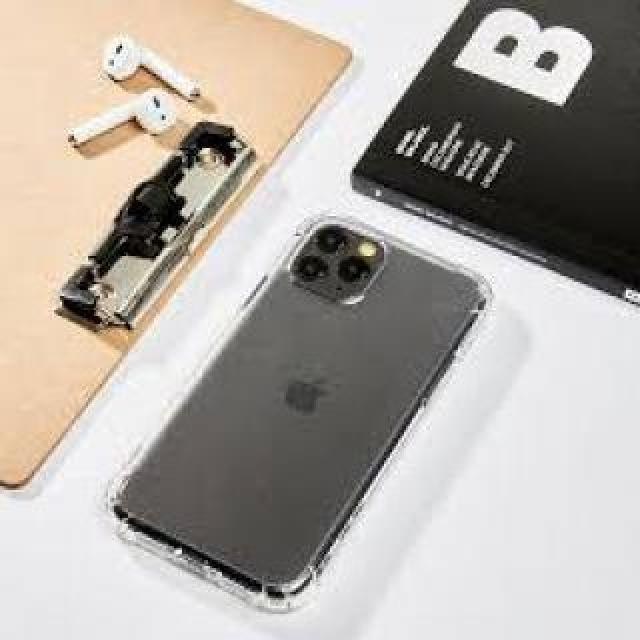earphone: (75, 18, 210, 147)
smart phone: (112, 215, 493, 637)
